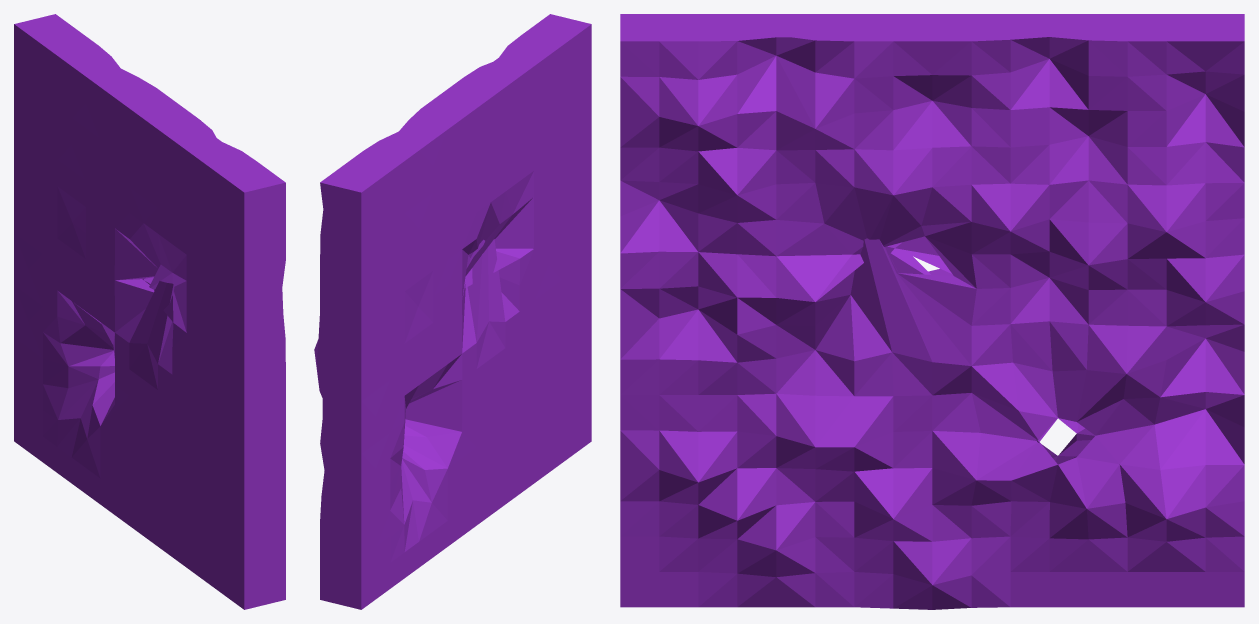
3 views of the same model, side by side, from view 1: azimuth 30°, elevation 25°; view 2: azimuth 150°, elevation 25°; view 3: azimuth 270°, elevation 25° (orthographic). The views are drawn at different scales.
Visible parts, largest first — view 1: Cube; view 2: Cube; view 3: Cube.
Boxes of the visible parts, bbox=[...] form: Cube: bbox=[14, 14, 285, 609]; Cube: bbox=[314, 14, 591, 609]; Cube: bbox=[620, 14, 1244, 609].
Size of the model in its own units: 1.71 by 9.58 by 9.58.
